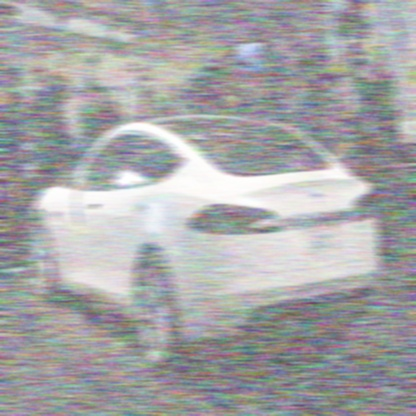Vehicle: (29, 114, 381, 375)
